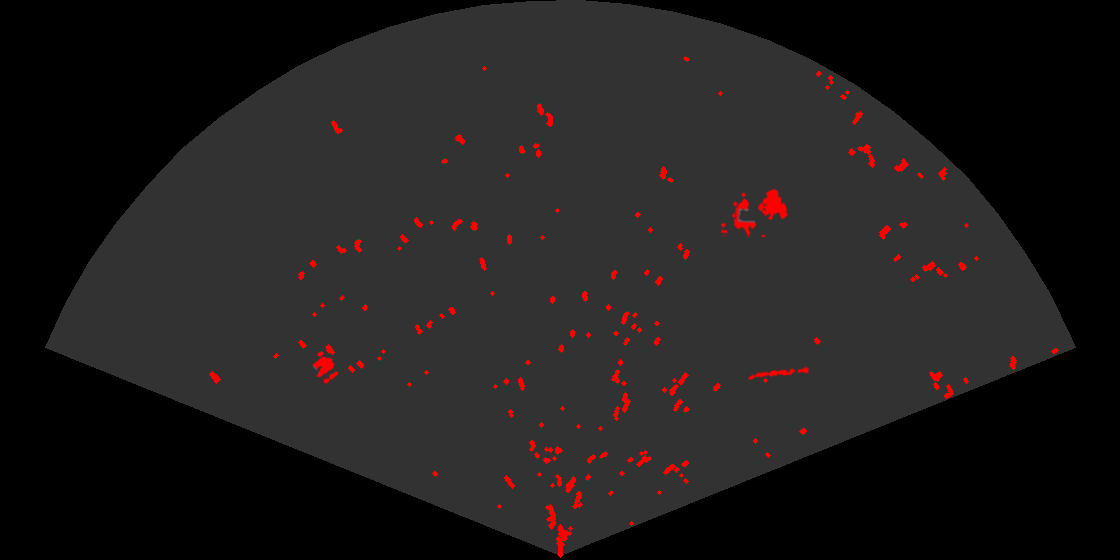ball: (311, 355, 340, 385)
cage: (721, 187, 790, 237)
chain: (746, 365, 809, 381)
